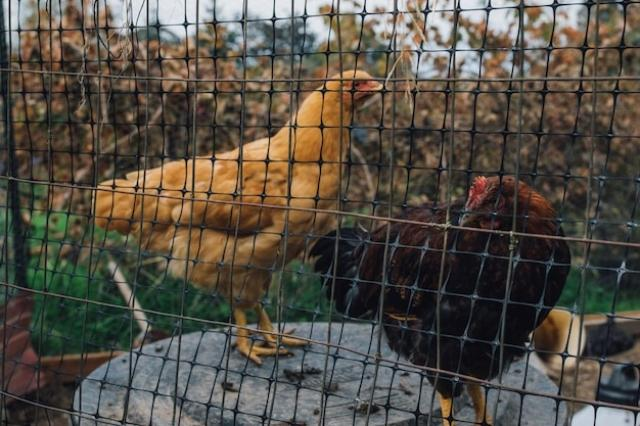Chicken: (94, 68, 386, 366), (311, 173, 569, 426)
